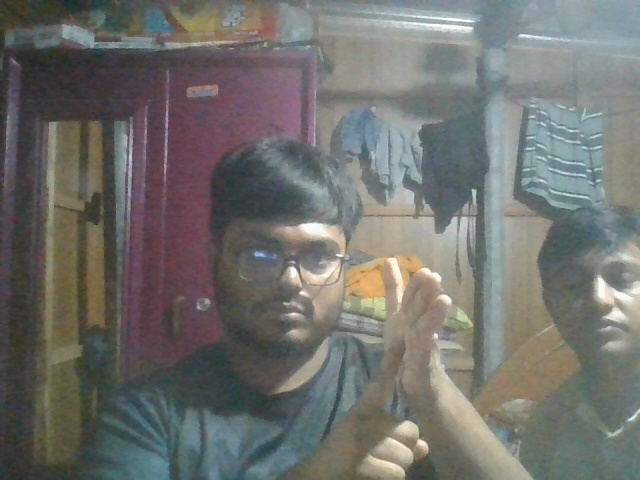r: (297, 261, 496, 480)
